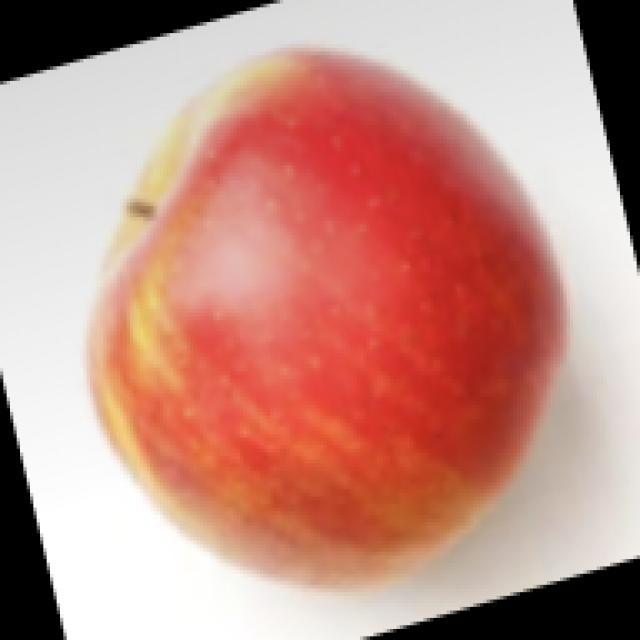Fresh Apple: (103, 68, 540, 545)
